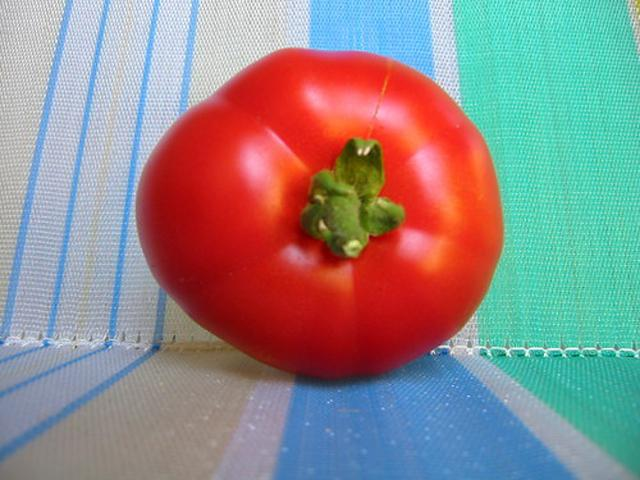tomato: (138, 47, 503, 380)
